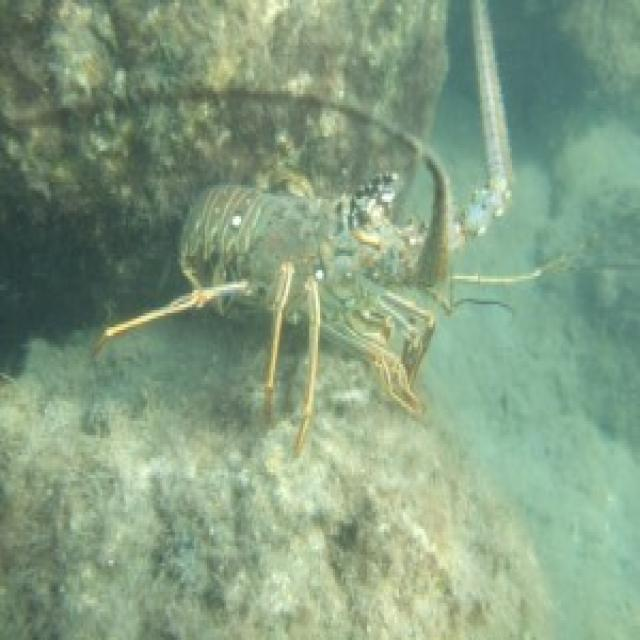lobsters: (58, 111, 555, 409)
